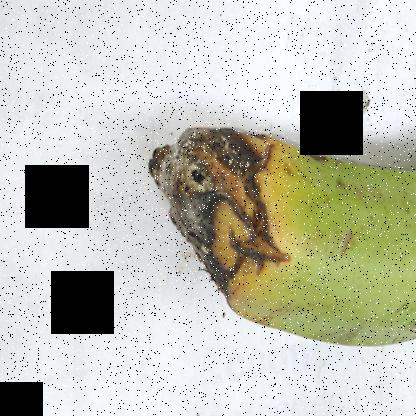rotten: (131, 90, 316, 358)
